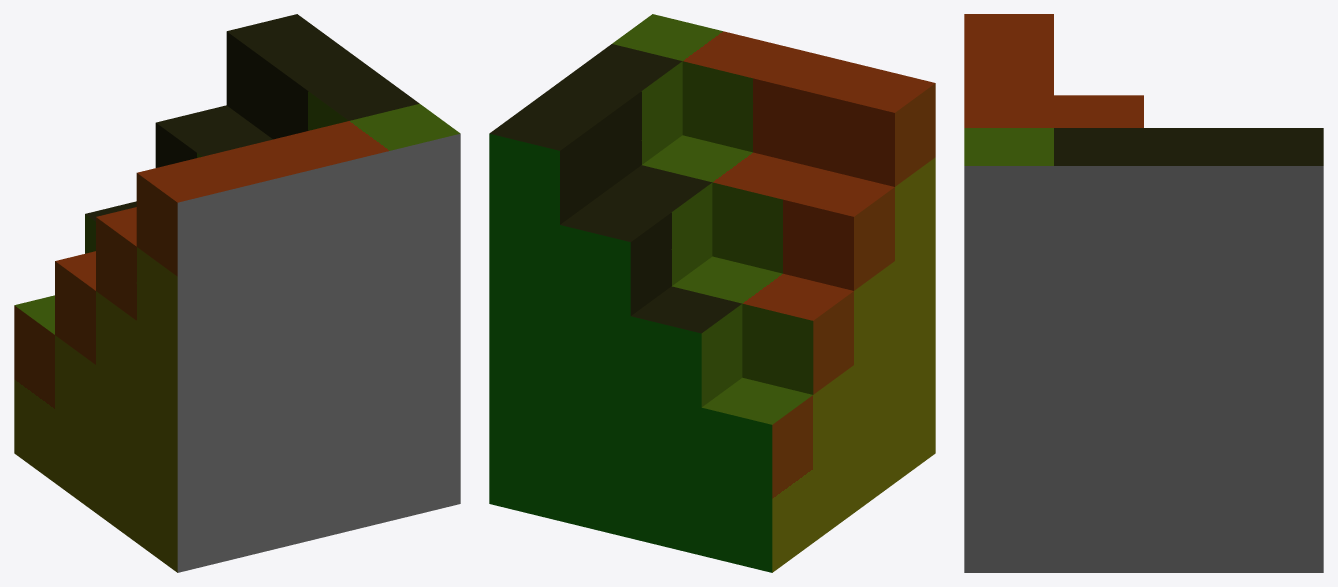
Rendered from block_6.fbx.
The picture shows the model from 3 angles, left to right: view 1: azimuth 30°, elevation 25°; view 2: azimuth 150°, elevation 25°; view 3: azimuth 270°, elevation 25°; orthographic projection. The views are drawn at different scales.
Parts seen in each view (by area): view 1: Box.029; view 2: Box.029; view 3: Box.029.
Part boxes in pixels (x1,y1,x2,y2): Box.029: [14, 14, 460, 572]; Box.029: [489, 14, 935, 572]; Box.029: [964, 14, 1323, 572].
Bounding box in the file's own units: 40 × 50 × 40.
